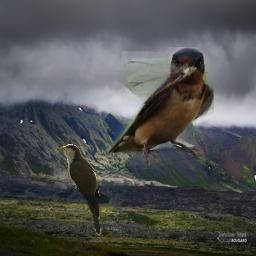Cuckoo: (57, 143, 103, 236)
Swallow: (107, 47, 214, 169)
